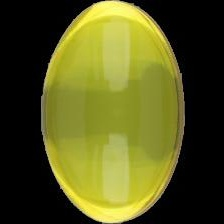35356-863: (0, 0, 224, 224)
